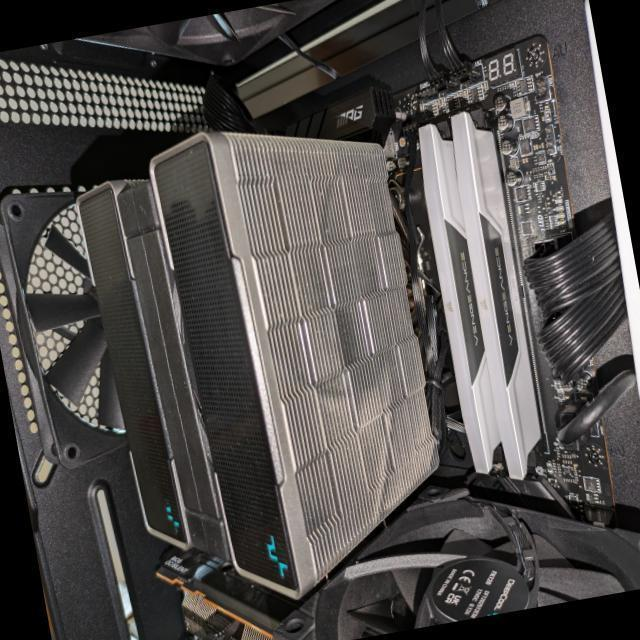CPU_Fan: (68, 102, 460, 624)
Mainboard: (367, 34, 632, 550)
RAM: (444, 106, 556, 483), (411, 122, 510, 491)
